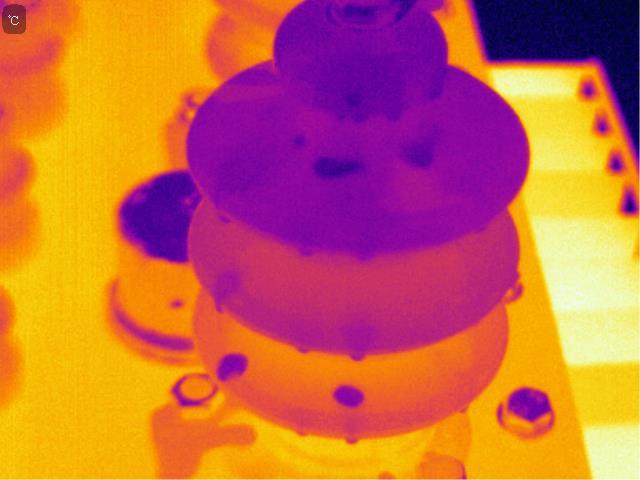Water: (208, 265, 243, 315), (311, 154, 364, 178), (328, 380, 368, 409), (400, 142, 434, 166), (218, 351, 244, 381), (431, 69, 447, 103), (351, 245, 380, 262), (382, 105, 408, 123), (290, 339, 313, 359), (294, 424, 312, 443), (341, 431, 361, 448), (347, 91, 364, 108), (455, 401, 474, 415), (346, 350, 368, 361), (298, 244, 314, 256), (293, 135, 306, 148), (355, 114, 367, 125), (336, 110, 346, 122)
